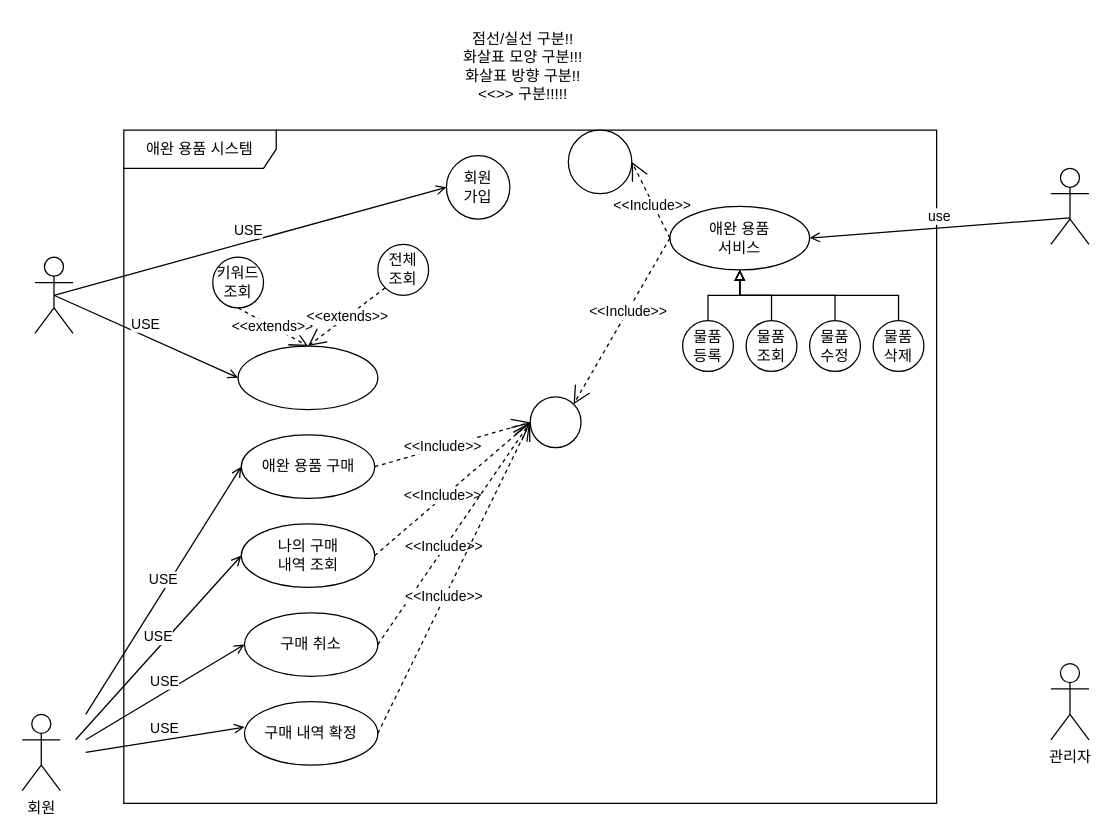
Some shapes in this 1113 by 838 pixel diagram are drawn without their labels. Each missing label, with the centre of its shape:
"계정 전환" goes at (599,161).
"로그인" goes at (555,422).
"비회원" goes at (53,294).
"애완 용품 조회" goes at (307,377).
"판매자" goes at (1069,205).
